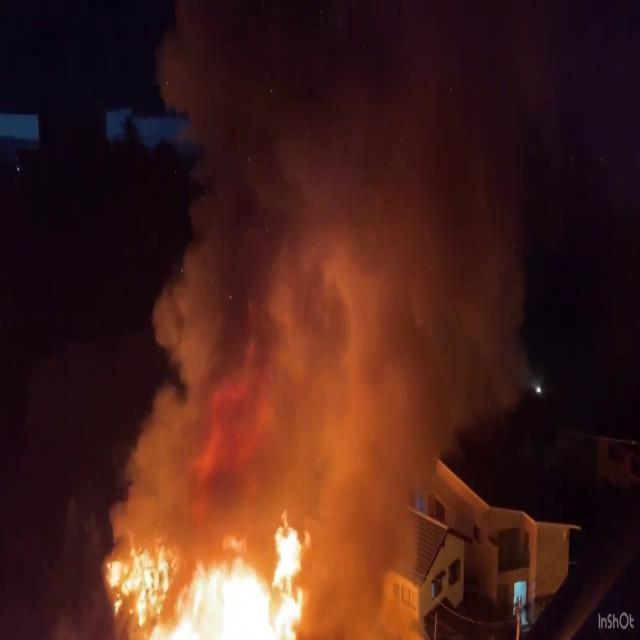Fire: (95, 511, 327, 640)
Smoke: (104, 2, 547, 520)
